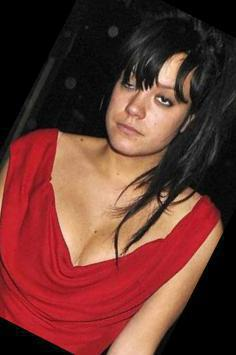Drunk: (108, 45, 190, 152)
